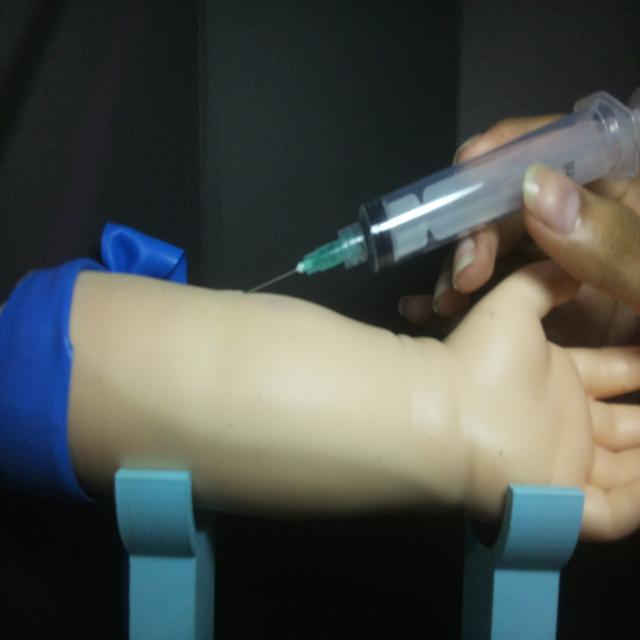17deg: (241, 85, 637, 298)
